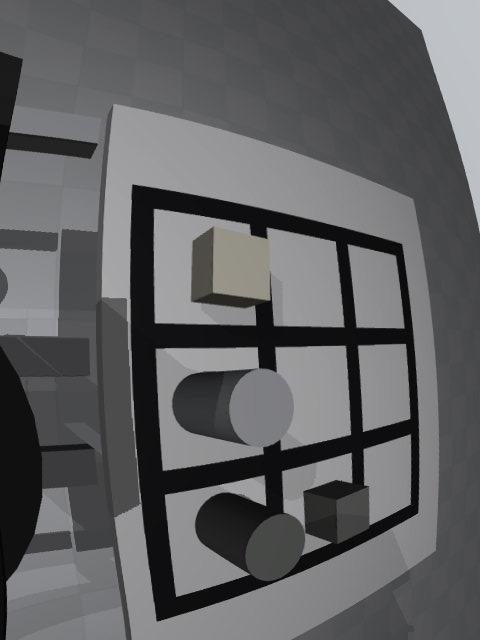can: (172, 368, 294, 447)
cube: (303, 480, 370, 544)
cylinder: (195, 492, 305, 581)
foam: (191, 226, 270, 309)
